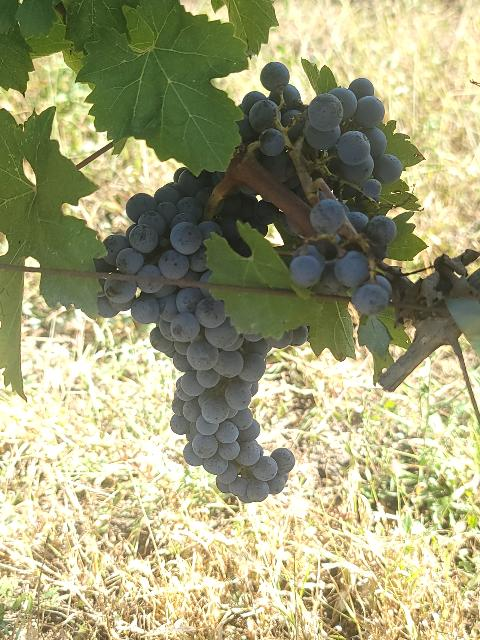grapes: (95, 169, 308, 502), (239, 62, 401, 201), (289, 199, 396, 315)
